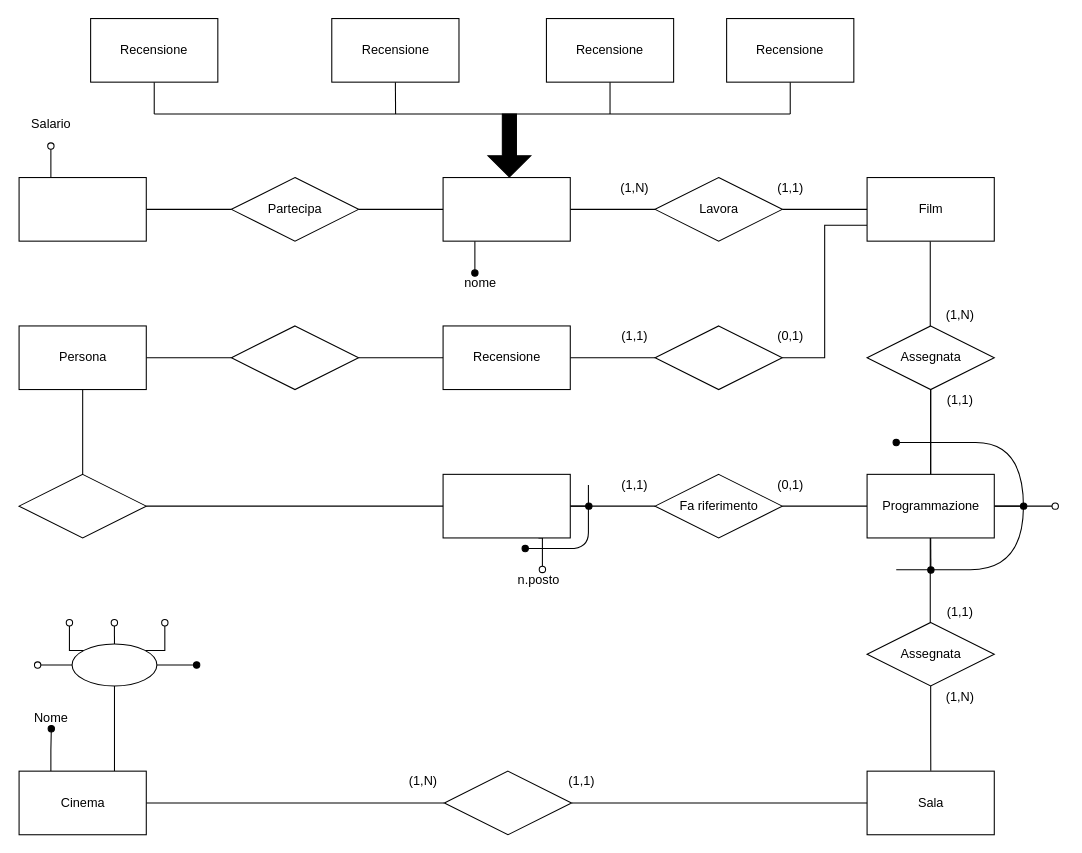
Image size: 1082x853. Some labels were removed from this diagram. The shapes that lost their labels are listed below. From the top down, each one's box as (x1, y1, x2, y2) in pixels, then its label:
(18, 176, 146, 241): Lavoratore
(442, 176, 570, 241): Cast
(230, 325, 359, 390): Rilascia
(654, 325, 782, 390): Ottiene
(18, 473, 146, 538): Compra
(442, 473, 570, 538): Biglietto
(71, 643, 157, 686): Indirizzo
(443, 770, 572, 835): Appartiene
